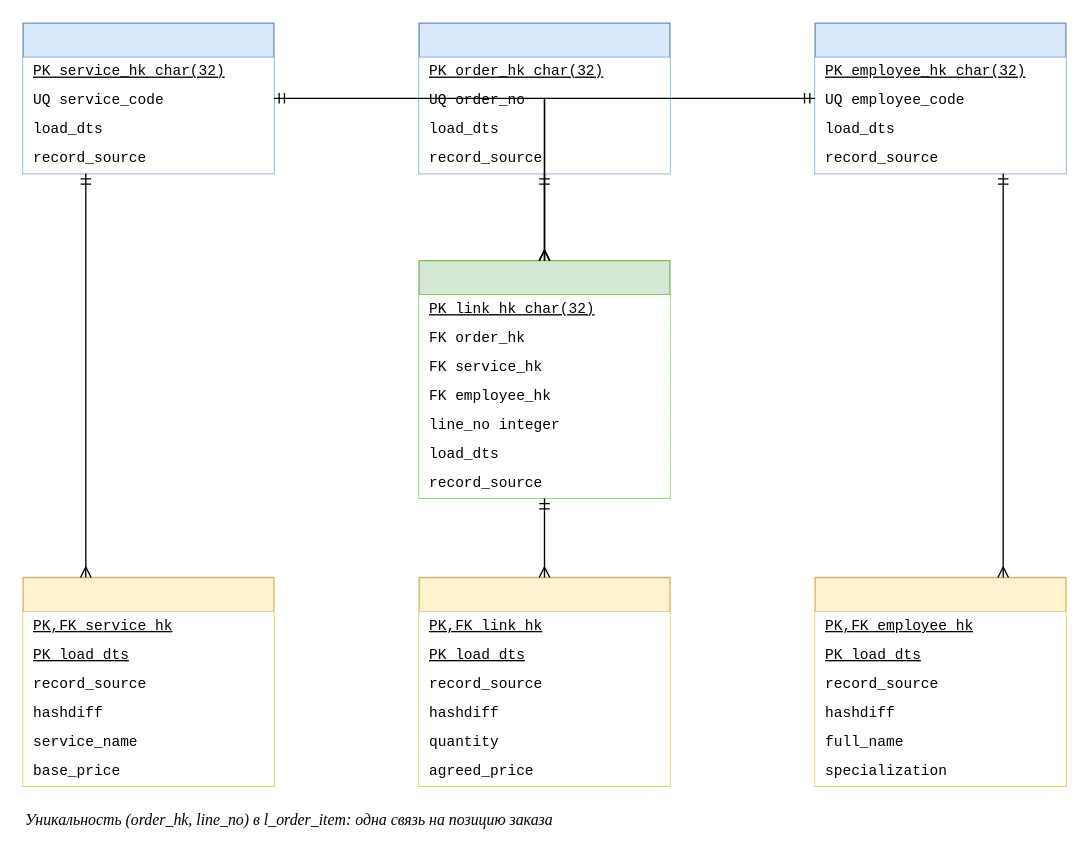
Image size: 1089x857. Some labels were removed from this diagram. The shapes that lost their labels are listed below. From the top down, each one's box as (x1, y1, x2, y2) in pixels, then its label:
(22, 22, 274, 174): h_service
(418, 22, 670, 174): h_order
(814, 22, 1066, 174): h_employee
(418, 259, 670, 498): l_order_item
(22, 576, 274, 786): s_service
(418, 576, 670, 786): s_order_item
(814, 576, 1066, 786): s_employee
